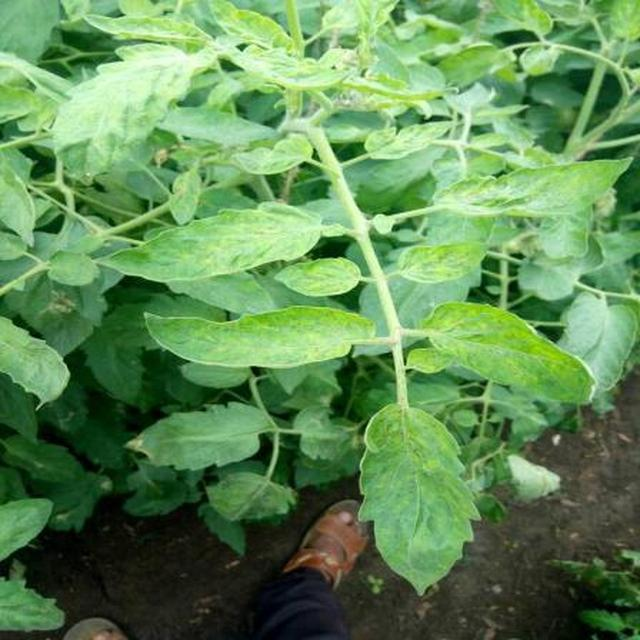Mosaic Virus Leaf: (126, 39, 640, 640)
